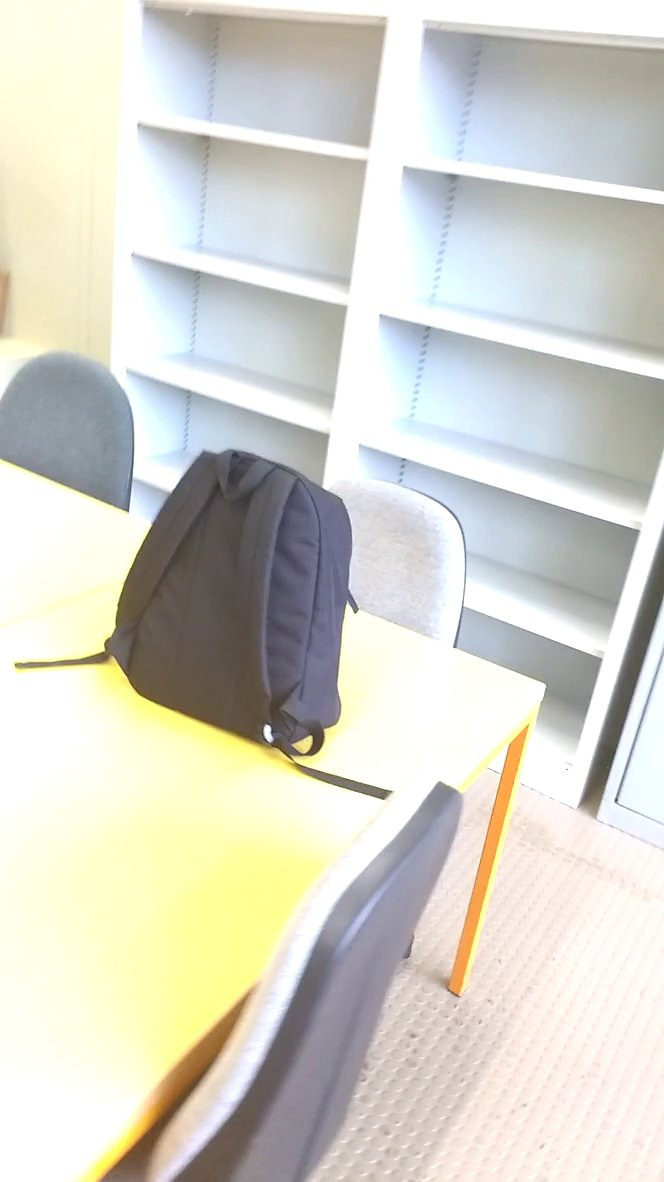bag: (52, 442, 360, 779)
chair: (132, 768, 466, 1182), (326, 456, 486, 695), (2, 342, 146, 539)
